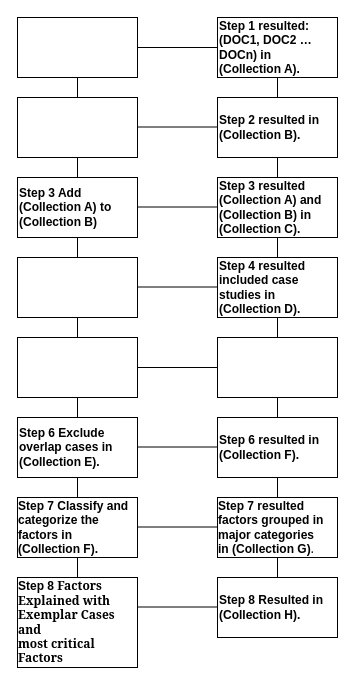
Some shapes in this 355 by 685 pixel diagram are drawn without their labels. The shapes that lost their labels are listed below. From the top down, each one's centre as x and y in pixels, then its label:
At [77,47]: "Step 1: Collect q uantitative data and convert it into DOC format.".
At [77,127]: "Step 2: Convert qualitative data and convert DOC format.".
At [77,287]: "Step 4 include/exclude case study from (Collection C).".
At [77,367]: "Step 5 Extract impacted aspects from (Collection D).".
At [277,367]: "Step 5 resulted impacted factors in (Collection E).".
